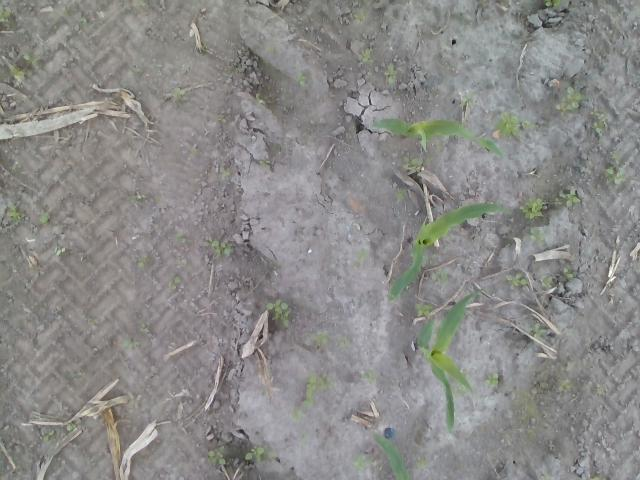Maize: (386, 201, 504, 303), (414, 291, 482, 432), (370, 117, 504, 160), (369, 431, 414, 480)
Weeds: (264, 297, 296, 336), (303, 374, 335, 408), (559, 86, 593, 113), (604, 150, 626, 185), (8, 50, 32, 80), (520, 196, 546, 221), (238, 444, 272, 463), (496, 112, 520, 137), (208, 239, 235, 258), (526, 322, 548, 342), (504, 270, 528, 288), (592, 110, 608, 136), (352, 454, 374, 472), (559, 190, 581, 208), (207, 444, 226, 464), (126, 390, 143, 410), (431, 268, 449, 286), (5, 203, 22, 222), (353, 246, 369, 266), (530, 228, 546, 248), (413, 302, 433, 316), (357, 47, 374, 63), (402, 156, 418, 172), (558, 378, 576, 392), (538, 273, 553, 289), (354, 7, 368, 24), (384, 63, 398, 80), (168, 273, 182, 290), (486, 370, 500, 387), (120, 339, 142, 349), (364, 366, 376, 384), (313, 331, 328, 345), (460, 94, 476, 107), (416, 456, 430, 470), (40, 430, 56, 442), (138, 321, 152, 334), (0, 5, 9, 24), (394, 188, 408, 200), (561, 265, 573, 279), (296, 72, 306, 88), (500, 436, 513, 448), (137, 254, 145, 272), (254, 93, 266, 105), (176, 230, 189, 241), (291, 408, 302, 421), (52, 246, 66, 256), (37, 212, 48, 224), (544, 0, 560, 8), (65, 421, 76, 432), (259, 158, 271, 168), (552, 195, 562, 207), (522, 120, 536, 128), (338, 336, 348, 346), (590, 475, 608, 480), (223, 168, 232, 178), (174, 87, 183, 96), (136, 0, 146, 7), (544, 473, 554, 480), (446, 62, 457, 68), (217, 114, 224, 122), (80, 16, 86, 24)
